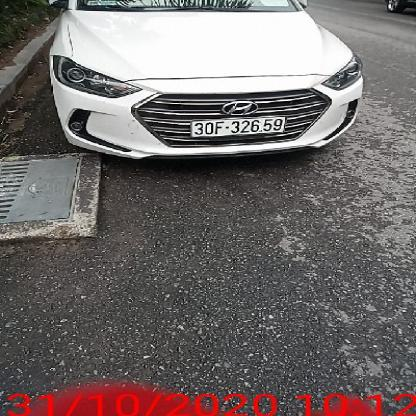biensoxe: (189, 116, 287, 139)
